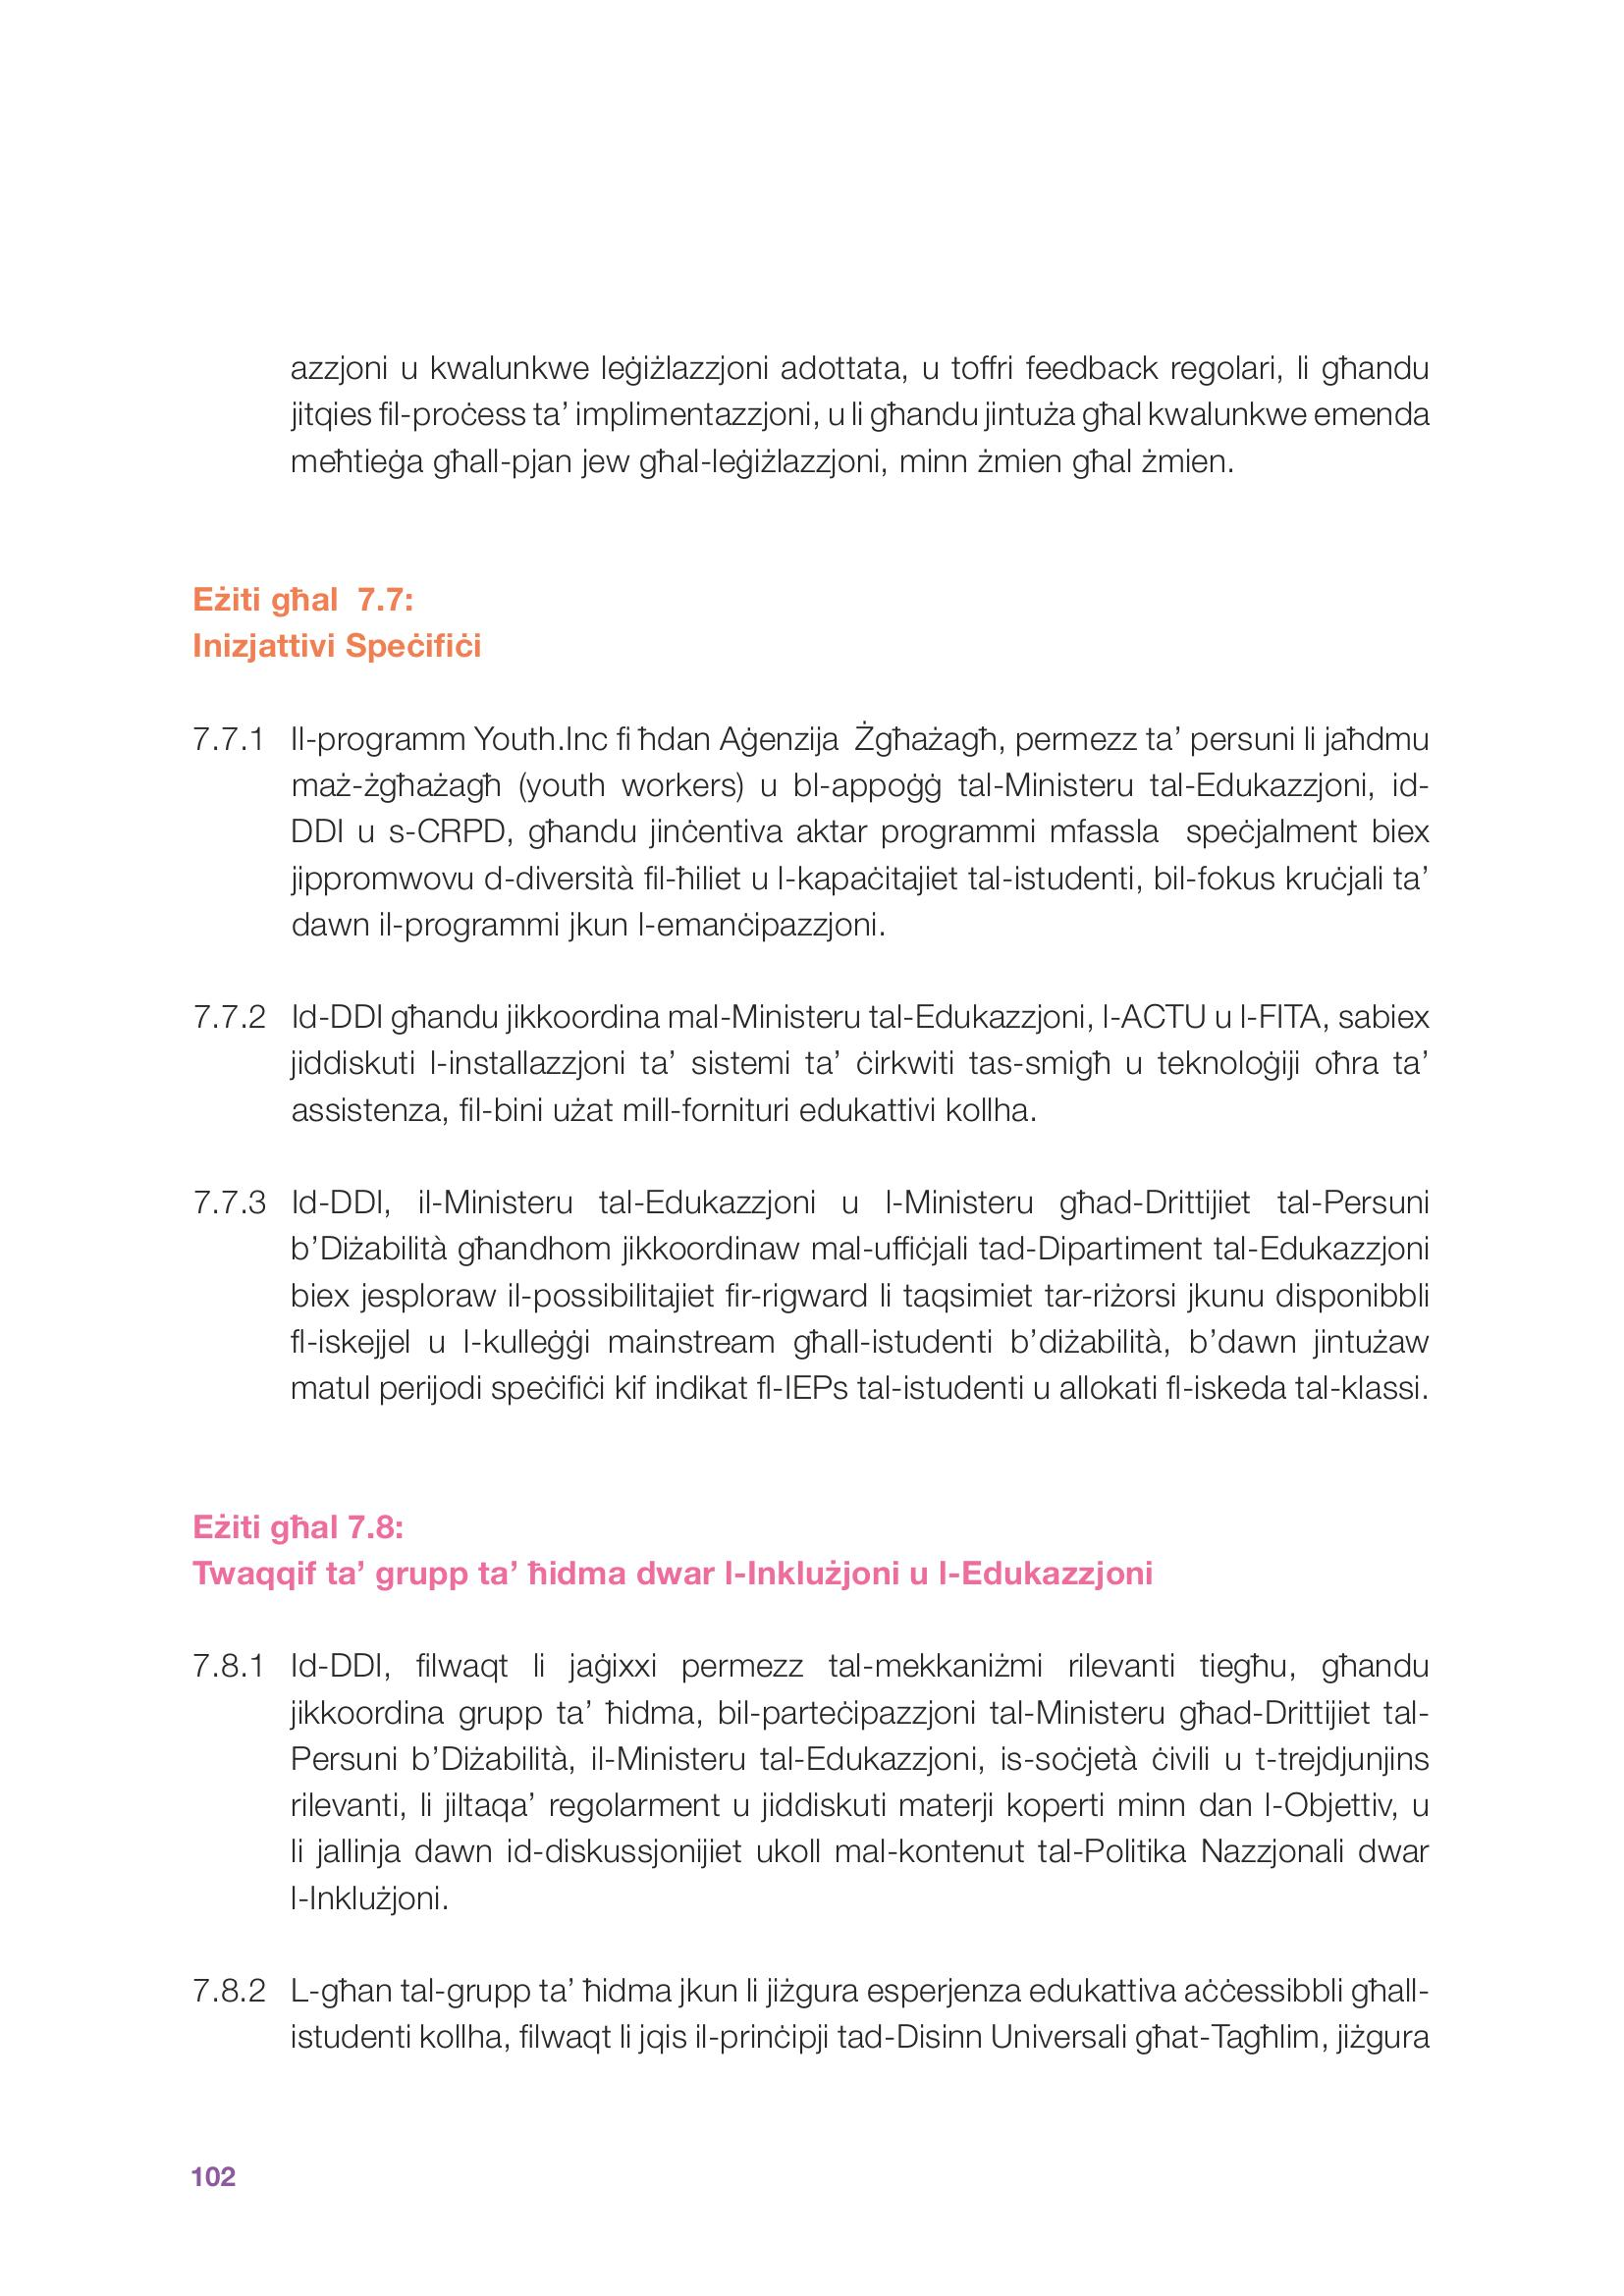text: (170, 334, 1471, 2082)
